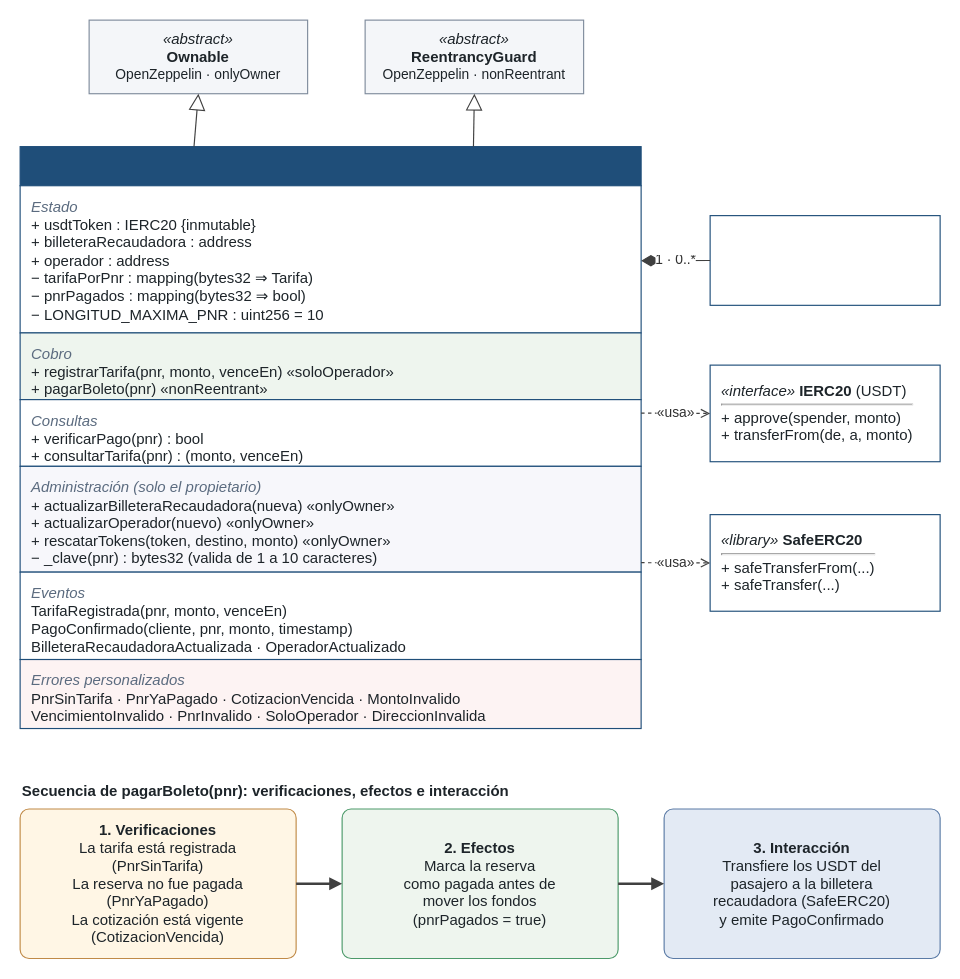
Some shapes in this 960 by 979 pixel diagram are drawn without their labels. The shapes that lost their labels are listed below. From the top down, each one's box as (x1, y1, x2, y2) in pixels, then its label:
(19, 145, 641, 186): «contract» BoAPayments
(709, 214, 940, 305): «struct» Tarifa + monto : uint256 + venceEn : uint64
